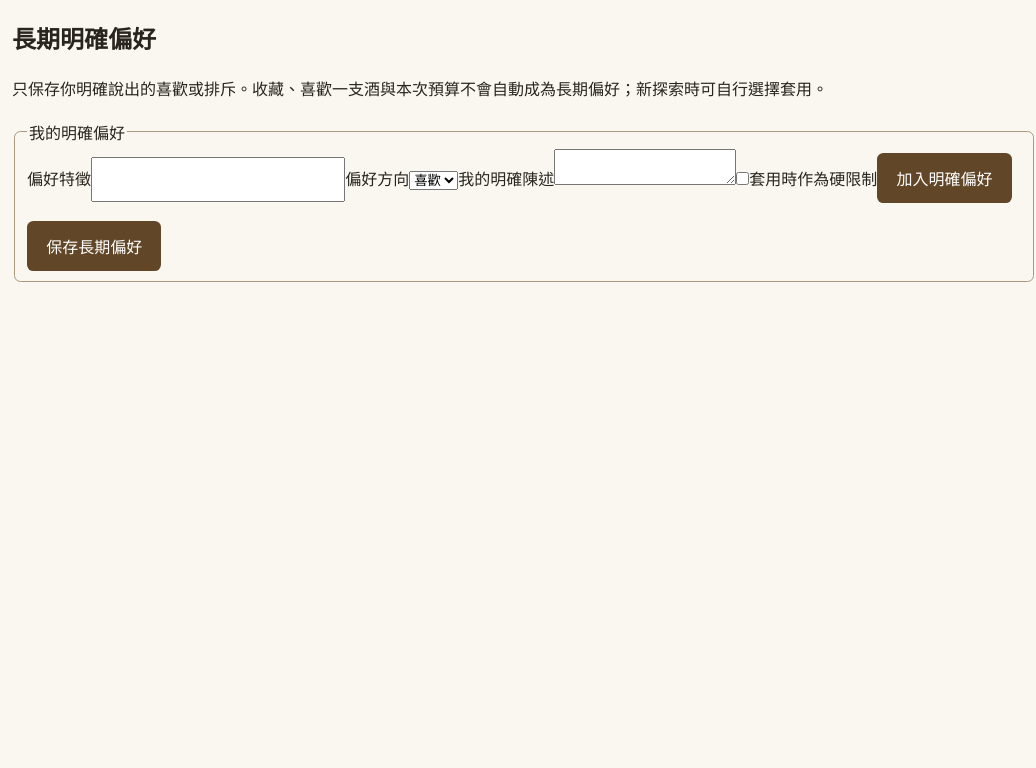
a known conflict reloads the latest profile before further editing
Type "果香" into the field labelled "偏好特徵" at (218, 179), box [91,157,345,202]
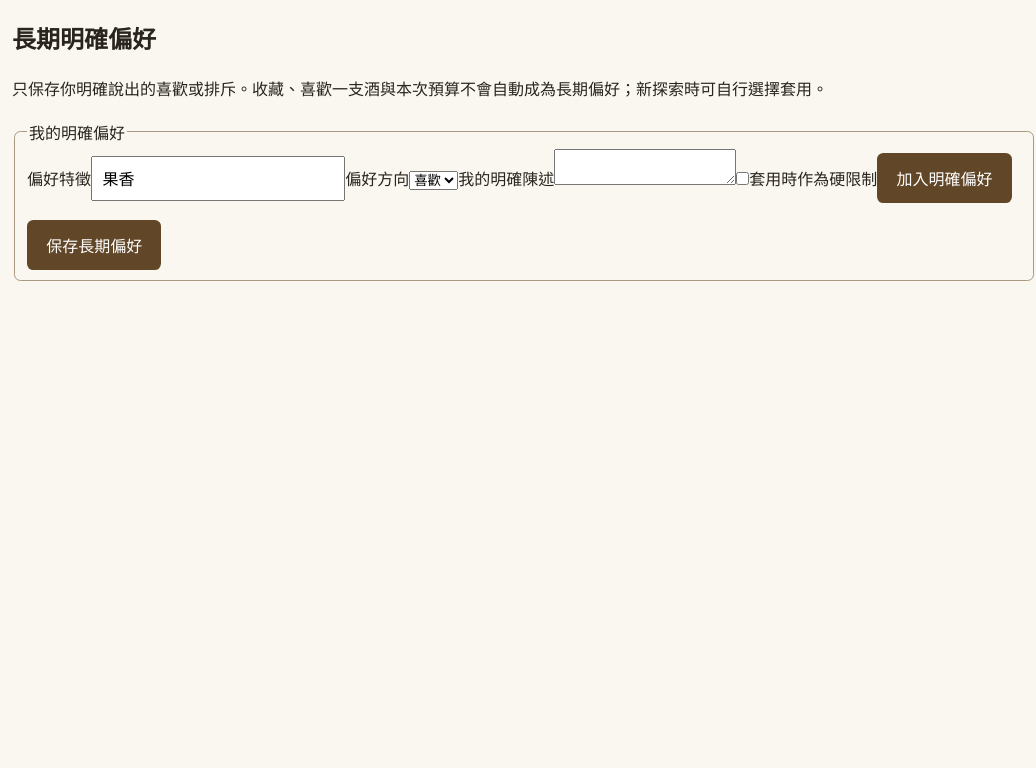
Type "我明確表示喜歡果香" into the text box labelled "我的明確陳述" at (645, 167), box [554,149,736,185]
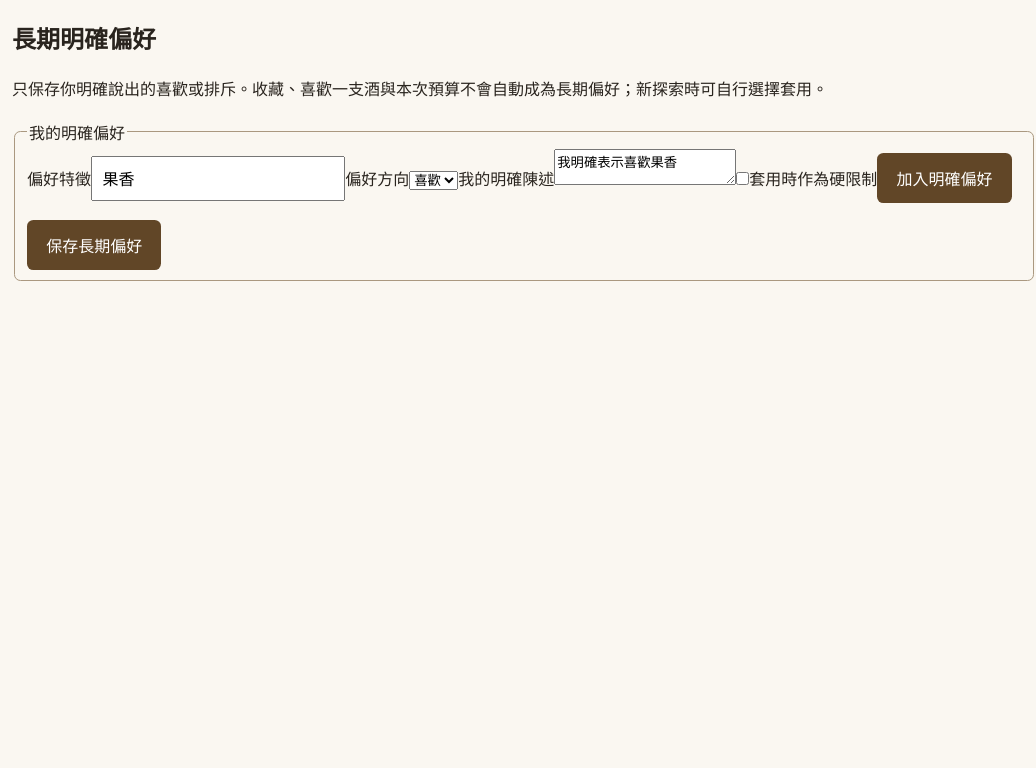
Click the button "加入明確偏好" at (944, 178), box [877,153,1012,203]
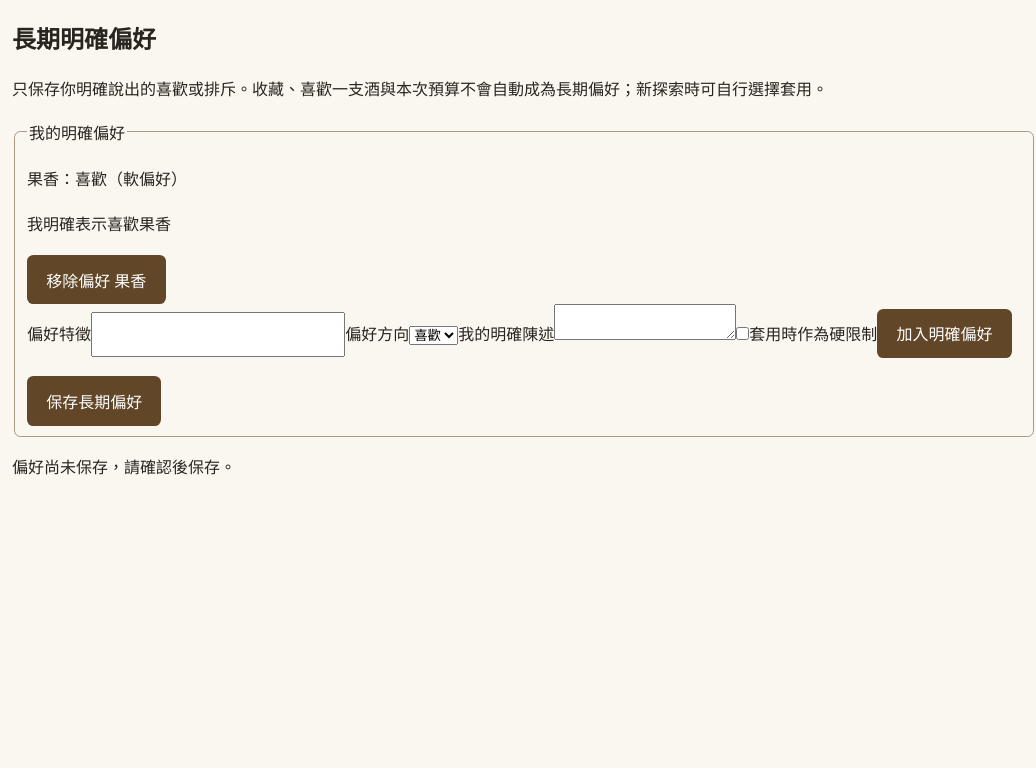
Click the button "保存長期偏好" at (94, 401), box [27,376,161,426]
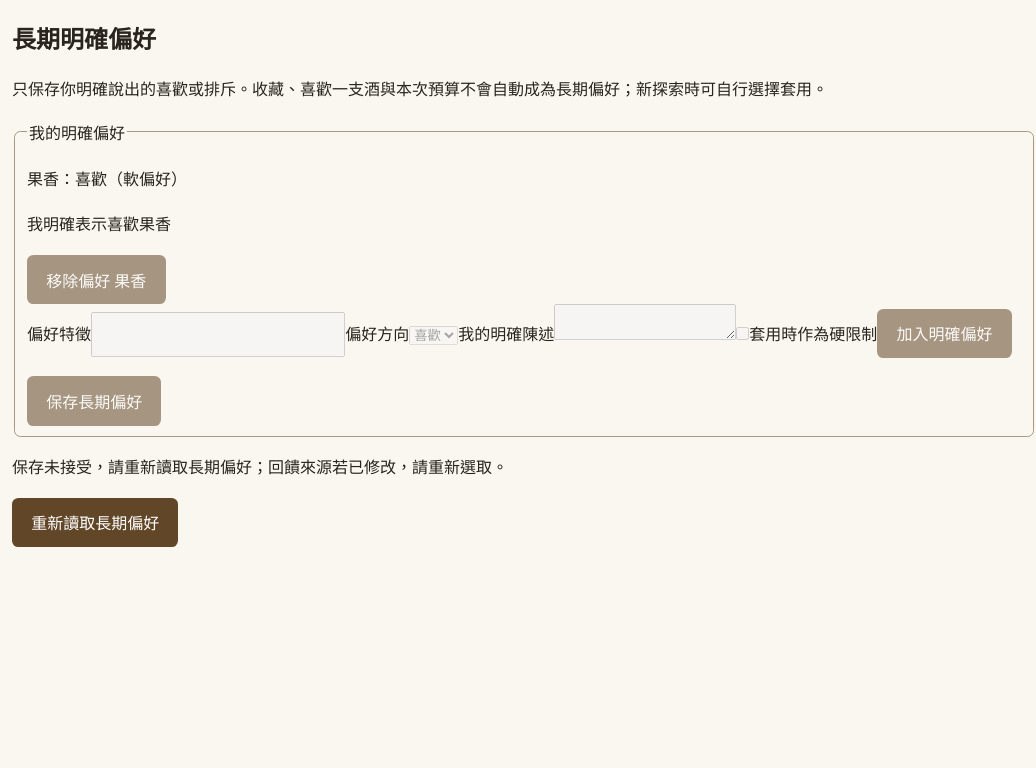
Click the button "重新讀取長期偏好" at (95, 522), box [12,498,178,547]
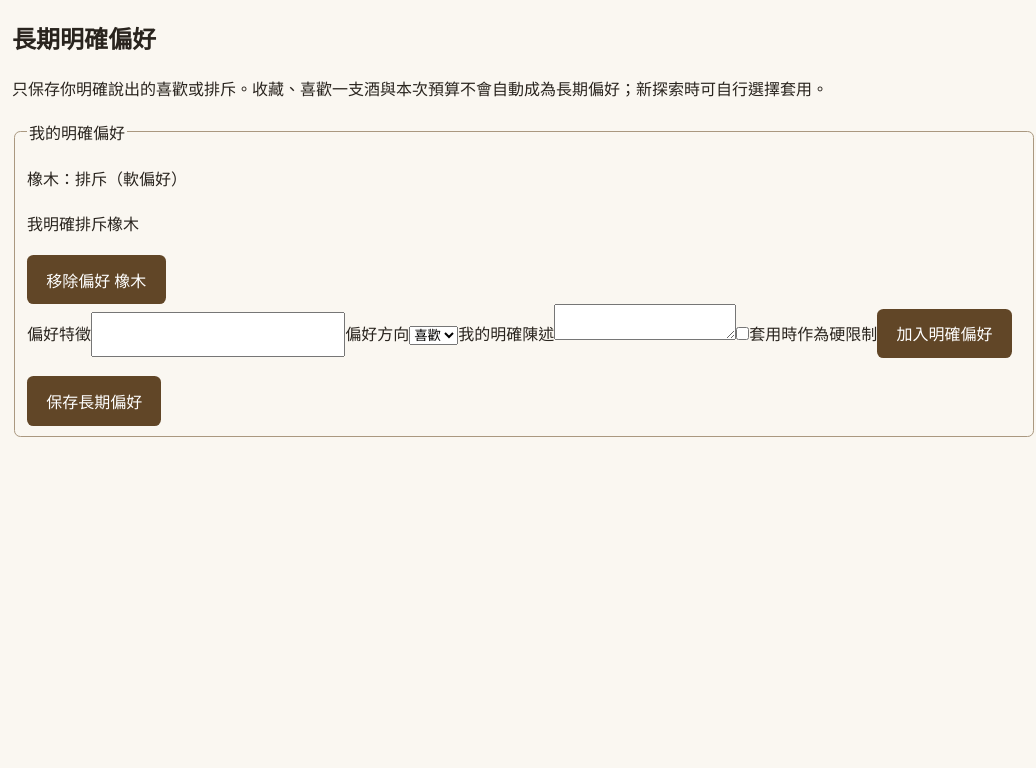
expect the text "我明確排斥橡木" is shown: met, box [27,213,139,235]
